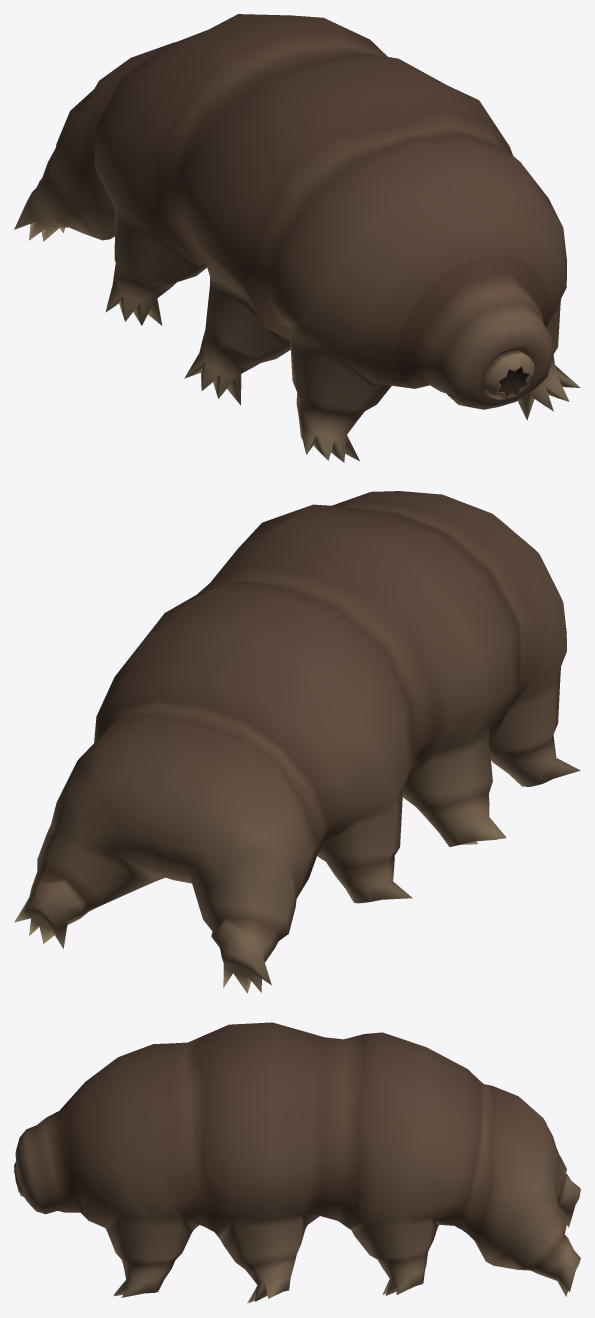
The model's file is microscopic-tiny-animals-tardigrade_v1.fbx.
The picture shows the model from 3 angles, top to bottom: view 1: azimuth 30°, elevation 25°; view 2: azimuth 150°, elevation 25°; view 3: azimuth 270°, elevation 25°; orthographic projection. The views are drawn at different scales.
Visible parts, largest first — view 1: Tardigrade; view 2: Tardigrade; view 3: Tardigrade.
Boxes of the visible parts, x1,y1,x2,y2 form: Tardigrade: (14,14,580,462); Tardigrade: (14,491,580,993); Tardigrade: (14,1022,580,1303).
Size of the model in its own units: 0.2444 by 0.2187 by 0.5.
